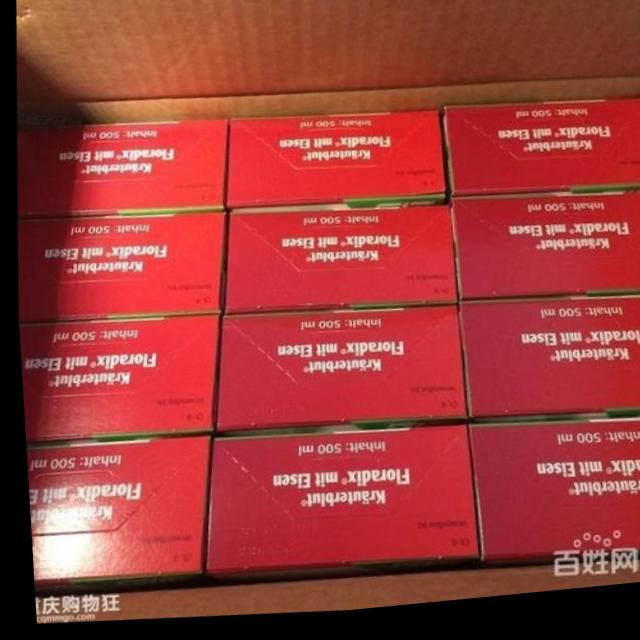box: (198, 431, 476, 589), (211, 313, 461, 436), (21, 438, 206, 587), (463, 430, 640, 575), (220, 212, 453, 319), (15, 320, 216, 440), (455, 307, 640, 428), (15, 216, 224, 322), (222, 120, 443, 218), (437, 109, 640, 210), (449, 204, 640, 310), (15, 123, 227, 217)
